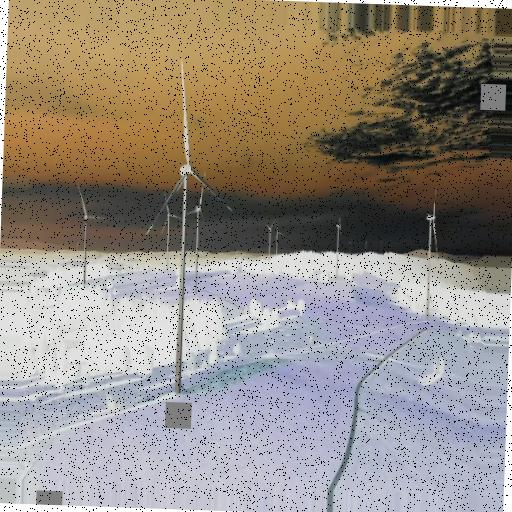wind turbine: (146, 57, 235, 393), (74, 186, 108, 287), (425, 189, 443, 314)
